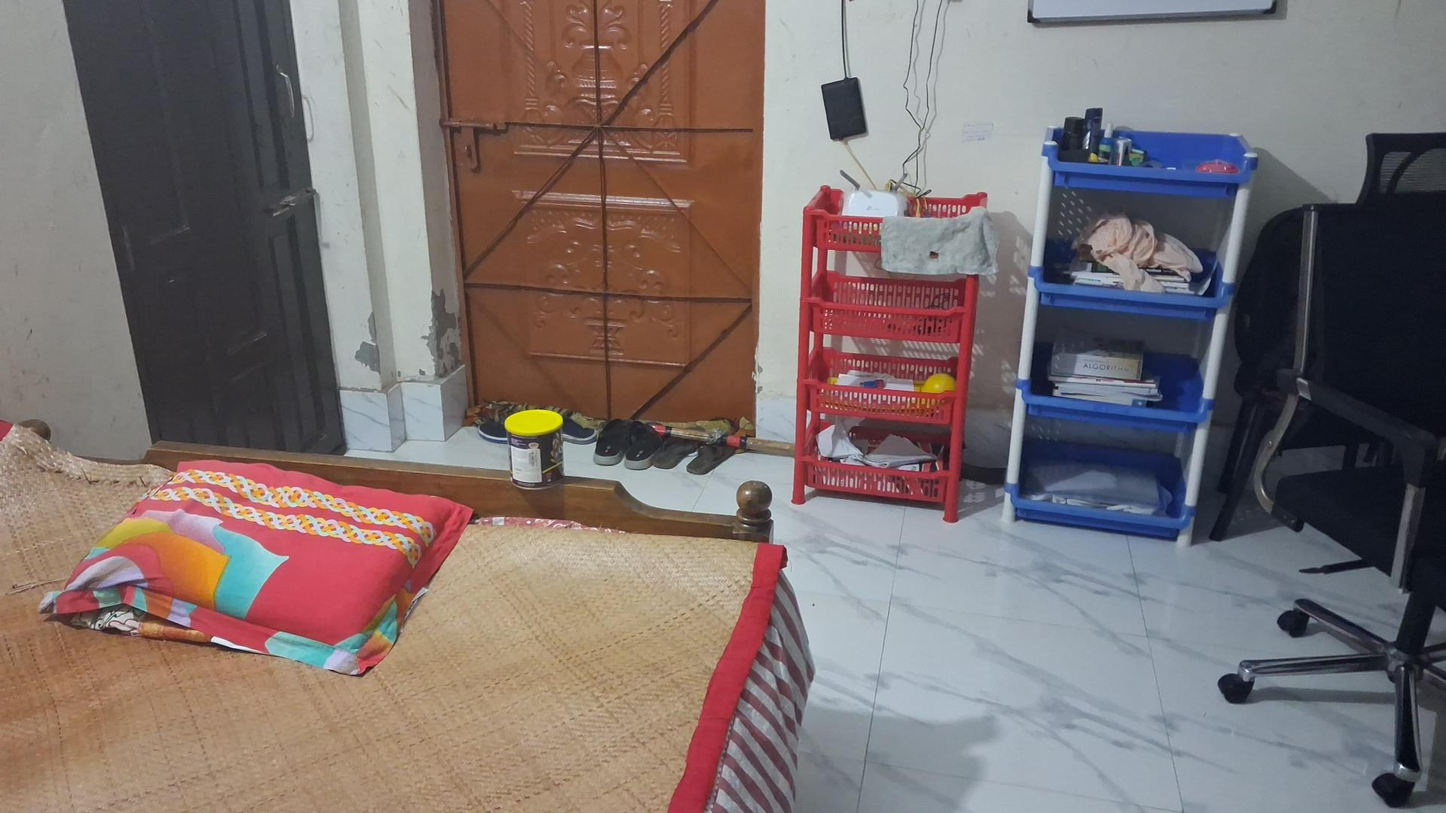Chair: (1210, 135, 1445, 798)
Door: (435, 0, 761, 438), (61, 0, 349, 454)
Footwear: (654, 439, 735, 479), (593, 424, 660, 467)
Jar: (503, 410, 563, 489)
Pillow: (46, 457, 472, 675)
Rack: (1004, 128, 1259, 547), (794, 187, 989, 516)
